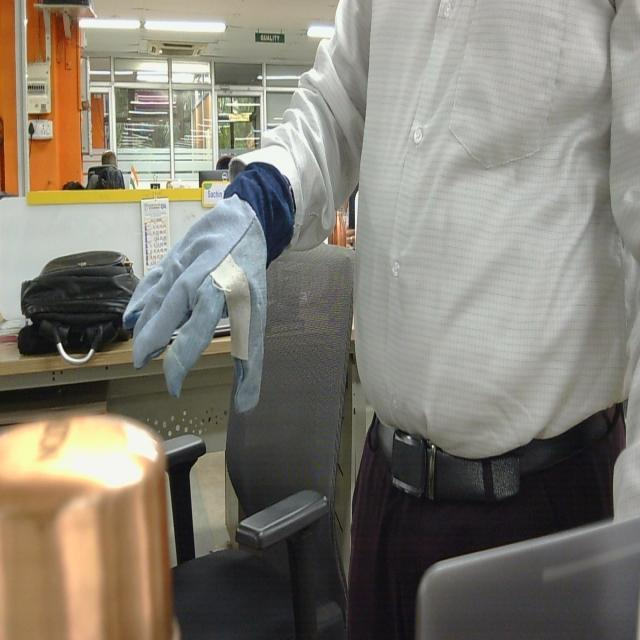Gloves-Detection: (120, 165, 292, 420)
